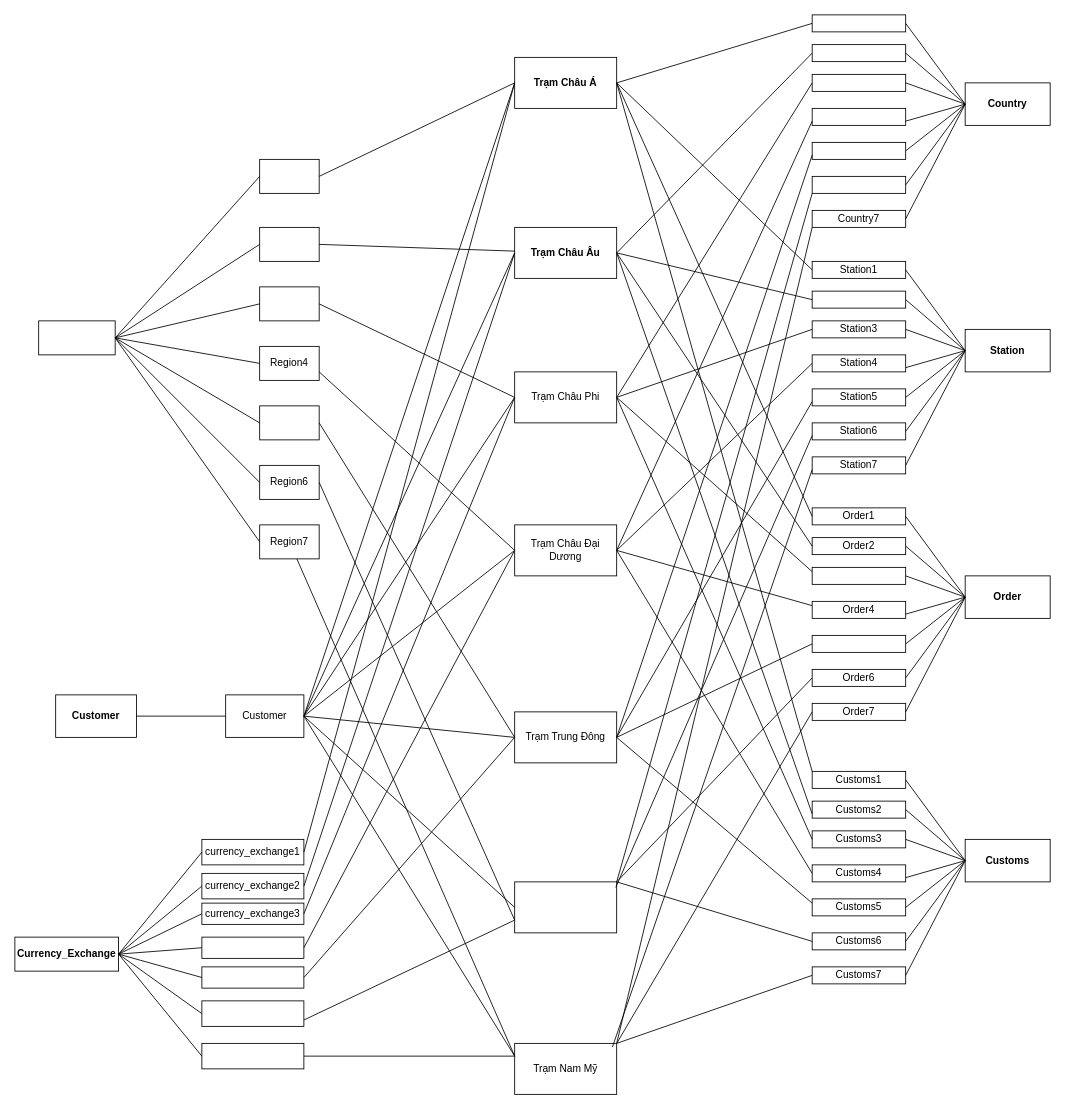
The diagram is 1065 pixels wide and 1109 high, and some of its shapes have lost their labels. The shapes that lost their labels are listed below. From the top down, each one's box as (x1, y1, x2, y2) in pixels, then its label:
(811, 14, 906, 32): Country1
(811, 44, 906, 62): Country2
(811, 74, 906, 91): Country3
(811, 108, 906, 125): Country4
(811, 142, 906, 159): Country5
(259, 159, 319, 193): Region1
(811, 176, 906, 193): Country6
(259, 227, 319, 261): Region2
(259, 286, 319, 321): Region3
(811, 290, 906, 308): Station2
(38, 320, 115, 355): Region
(259, 405, 319, 440): Region5
(811, 567, 906, 584): Order3
(811, 635, 906, 652): Order5
(514, 881, 617, 933): Trạm Bắc Mỹ
(201, 936, 304, 958): currency_exchange4
(201, 966, 304, 988): currency_exchange5
(201, 1000, 304, 1026): currency_exchange6
(201, 1043, 304, 1069): currency_exchange7
